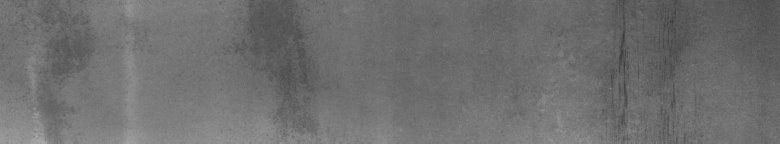ka: (609, 16, 678, 132)
